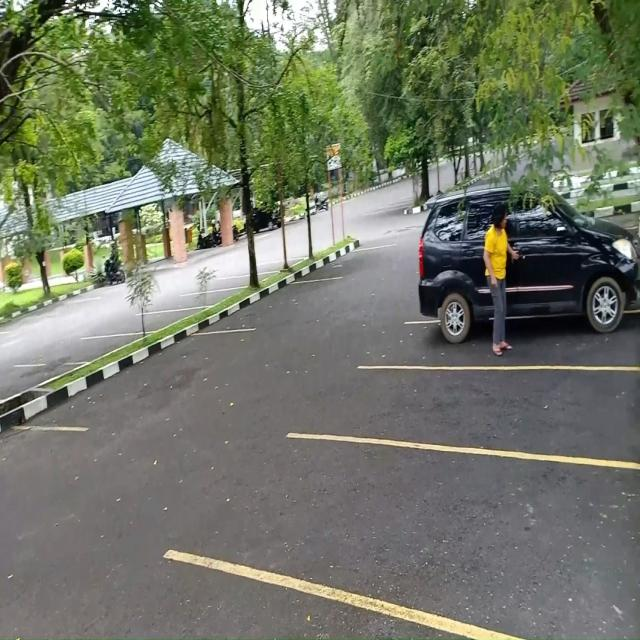empty: (305, 441, 637, 615), (384, 365, 640, 461), (251, 280, 321, 331), (127, 308, 179, 336), (78, 334, 120, 367), (183, 288, 229, 309), (221, 274, 250, 290)
occupied: (411, 264, 640, 370)
